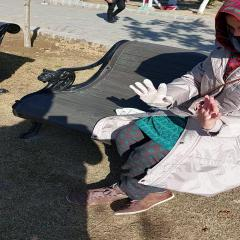gloved: (131, 79, 174, 106)
not-gloved: (193, 96, 223, 129)
